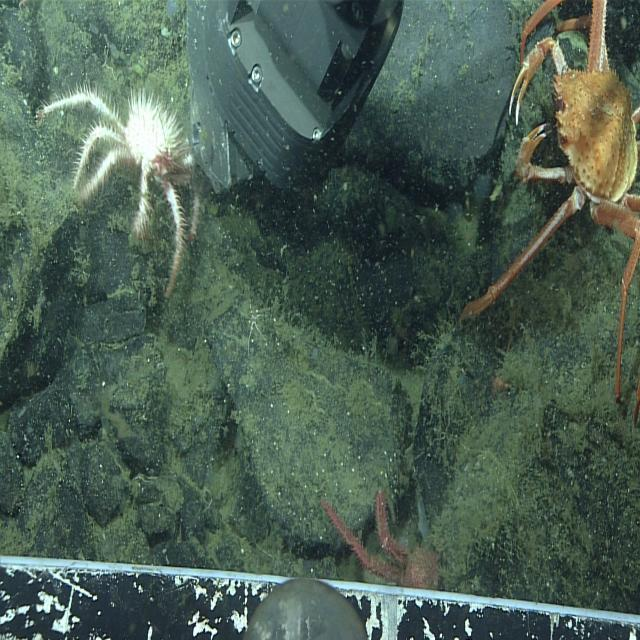Brittle Star: (236, 290, 276, 359)
Not Brittle Star: (455, 4, 640, 436), (34, 75, 206, 306)
